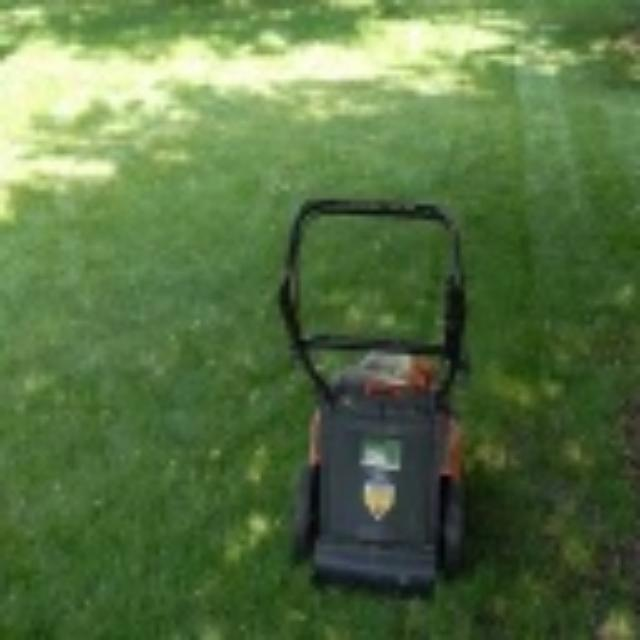Rotary-Mower: (240, 174, 530, 624)
